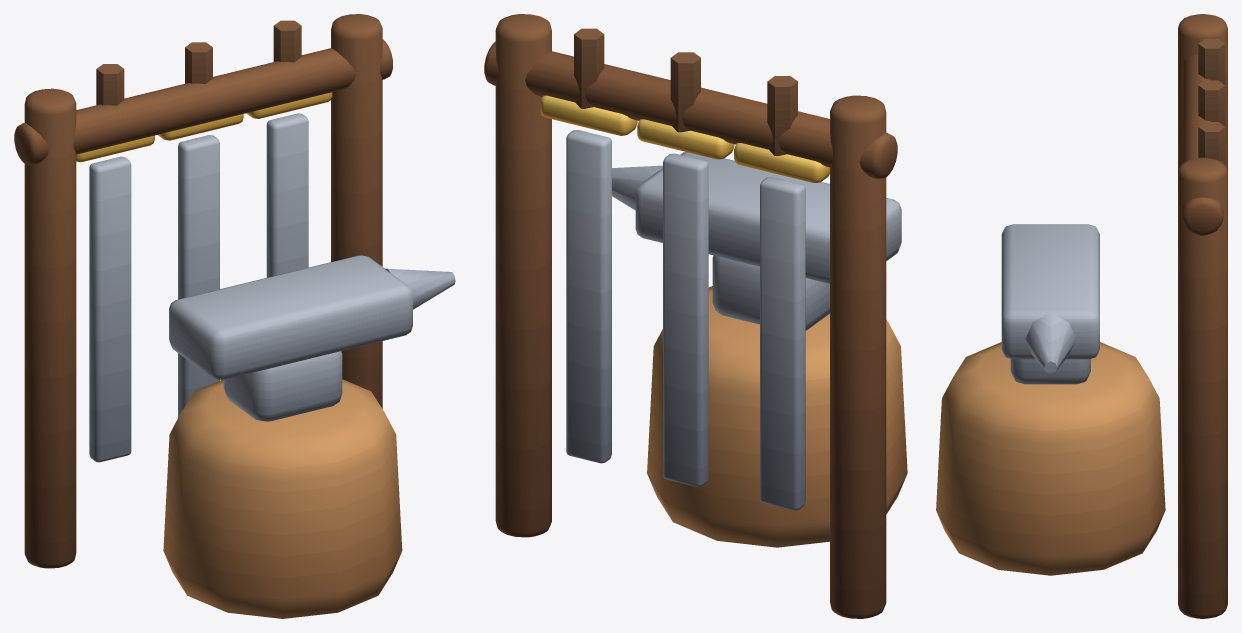
Rendered from rack.glb.
3 renders of one model, left to right at view 1: azimuth 30°, elevation 25°; view 2: azimuth 150°, elevation 25°; view 3: azimuth 270°, elevation 25°, orthographic. The views are drawn at different scales.
Parts seen in each view (by area): view 1: rack; view 2: rack; view 3: rack.
Boxes of the visible parts, left/top/right/bottom form: rack: left=14, top=14, right=455, bottom=618; rack: left=484, top=14, right=907, bottom=618; rack: left=936, top=14, right=1227, bottom=618.
Size of the model in its own units: 0.9 by 1.12 by 0.6525.
Materials: 1 (1 with a texture image).
